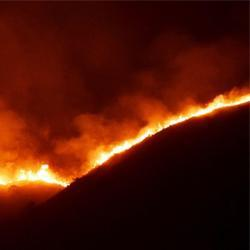fire: (9, 168, 61, 185), (208, 94, 228, 108), (95, 151, 110, 162), (171, 114, 183, 123), (118, 143, 128, 152)
